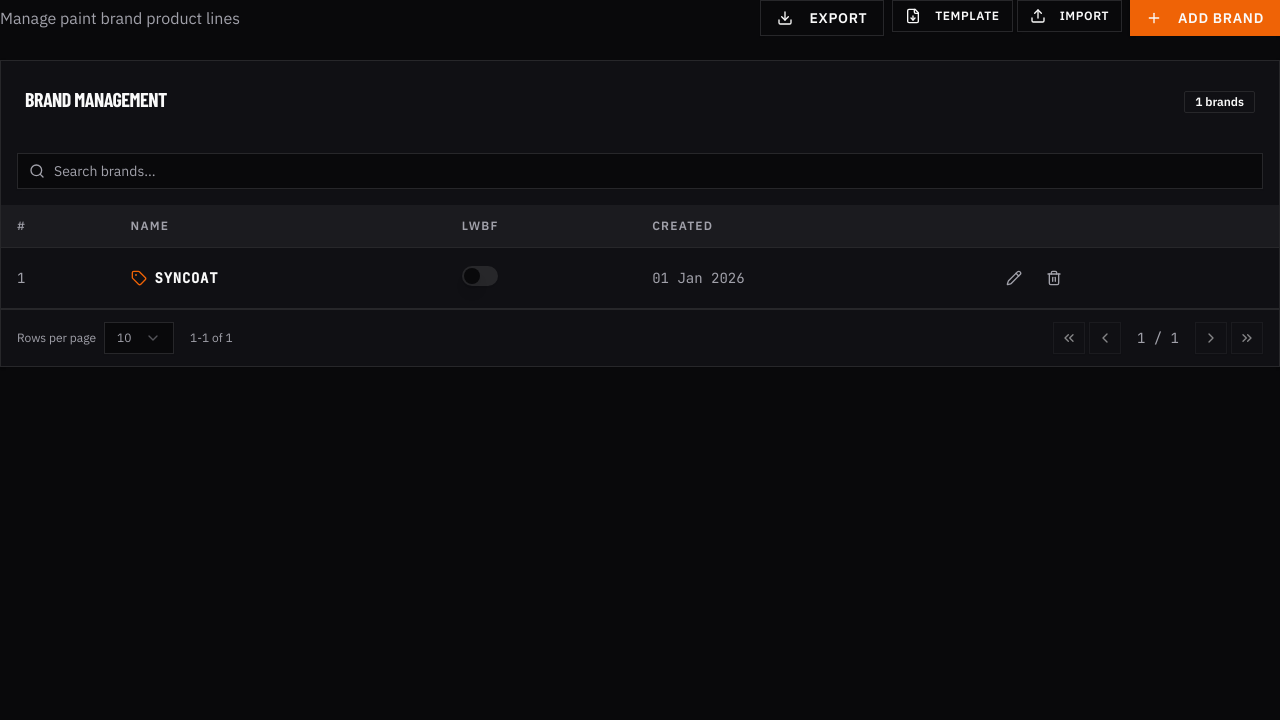
Brands: the name input is associated with its label
Expected: the table with test id "brands-table" is shown, [1,205,1279,309]
Click the button with test id "add-brand-btn" at (1205, 18), box [1130,0,1279,36]
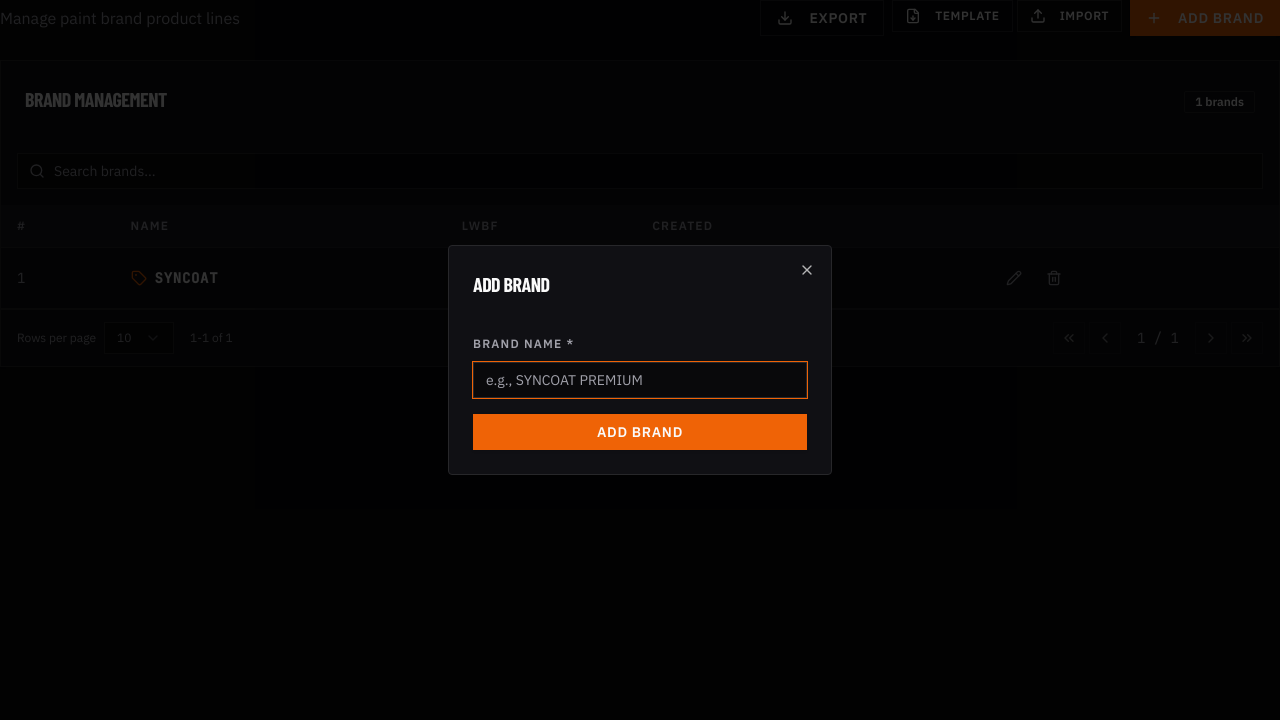
Now the field with test id "brand-name-input" is shown, box [473,362,807,398]
